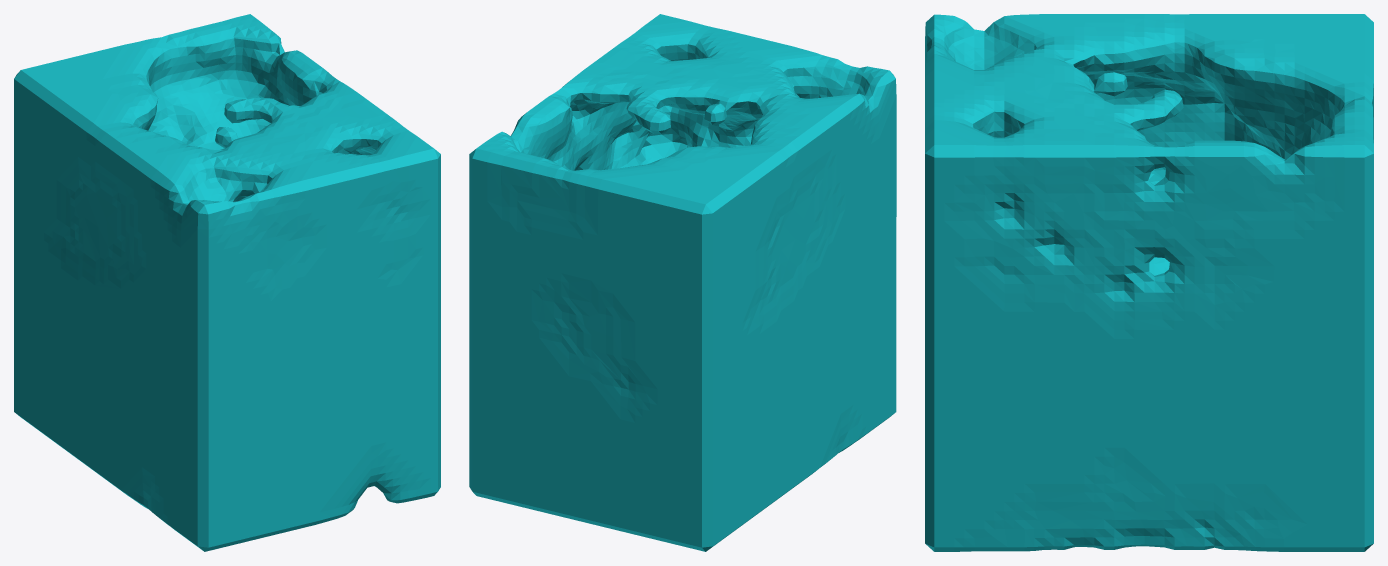
3 renders of one model, left to right at view 1: azimuth 30°, elevation 25°; view 2: azimuth 150°, elevation 25°; view 3: azimuth 270°, elevation 25°, orthographic. The views are drawn at different scales.
Visible parts, largest first — view 1: Liquid_Domain; view 2: Liquid_Domain; view 3: Liquid_Domain.
Boxes of the visible parts, <box> form: Liquid_Domain: <box>14,14,440,551</box>; Liquid_Domain: <box>469,14,896,551</box>; Liquid_Domain: <box>925,14,1373,551</box>.
Size of the model in its own units: 79.09 by 108 by 108.
